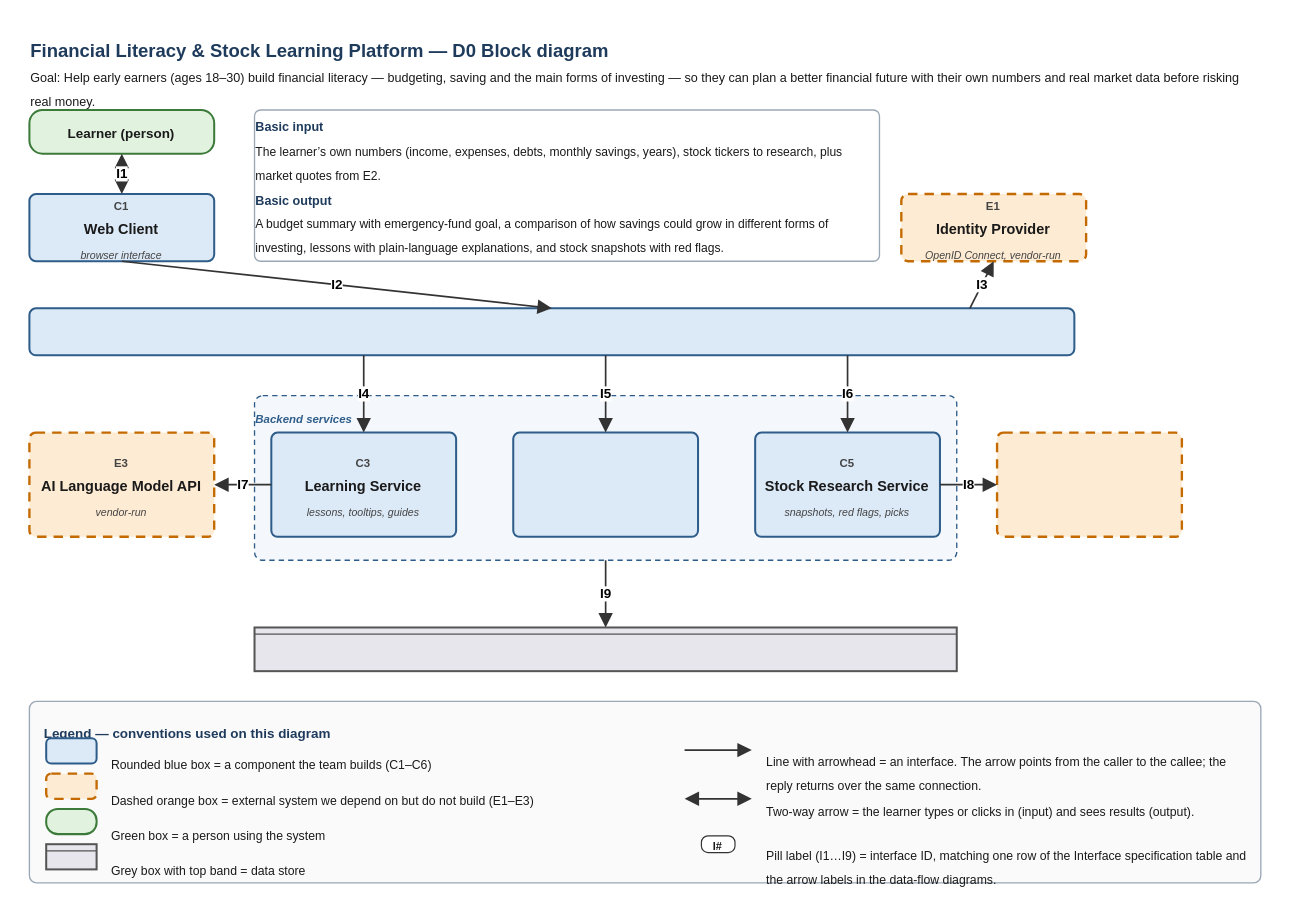
Image size: 1292x919. Some labels were removed from this diagram. The shapes that lost their labels are listed below. From the top down, each one's centre as x and y in pixels, then its label:
the point at 551,330: C2 · API Gateway — single entry point to the backend
the point at 604,484: C4 Planning Engine budget, growth what-ifs
the point at 1088,484: E2 Stock Data API vendor-run
the point at 605,648: C6 · App Database — progress, plans, practice picks, cached market data
